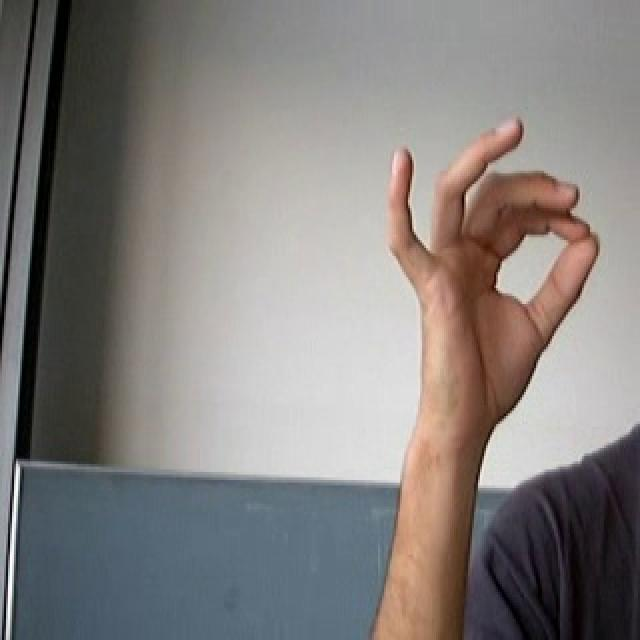F: (367, 107, 610, 438)
